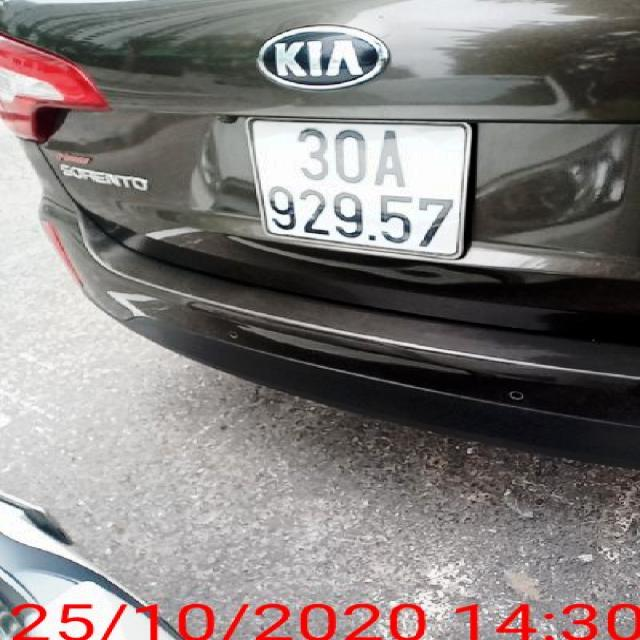license_plate: (251, 117, 470, 253)
